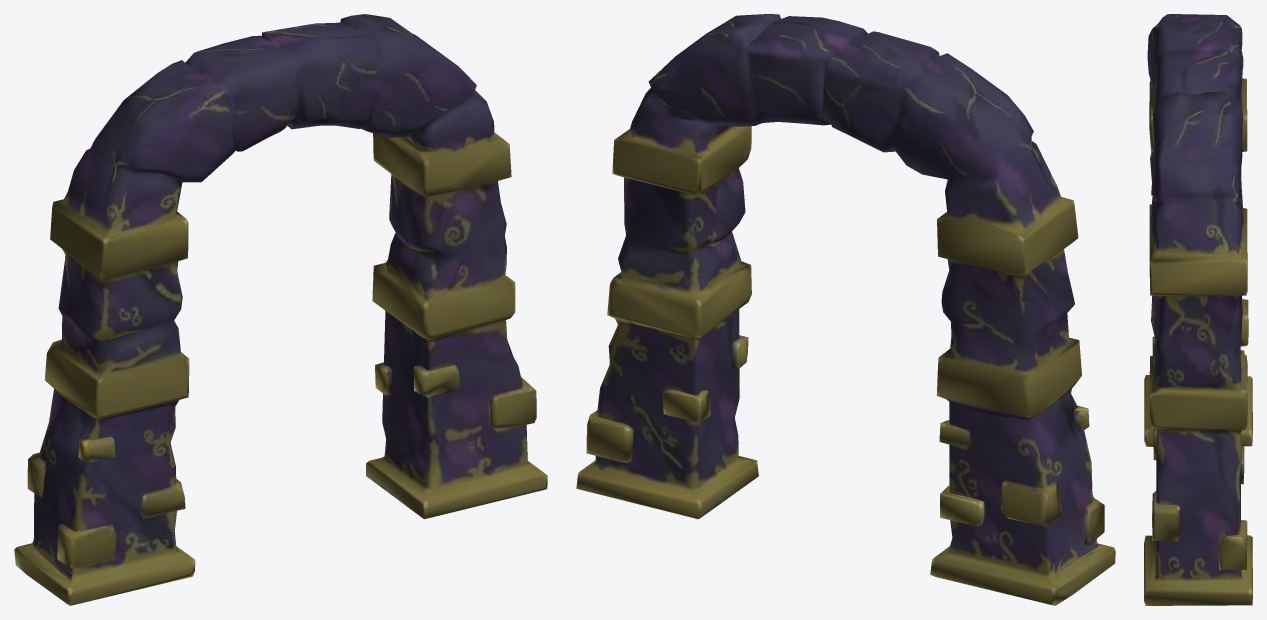
File: breakablelWallFrame_LowPolyCompressed.glb
3 renders of one model, left to right at view 1: azimuth 30°, elevation 25°; view 2: azimuth 150°, elevation 25°; view 3: azimuth 270°, elevation 25°, orthographic. The views are drawn at different scales.
Visible parts, largest first — view 1: Mesh_0.005; view 2: Mesh_0.005; view 3: Mesh_0.005.
Boxes of the visible parts, x1,y1,x2,y2 form: Mesh_0.005: (14, 14, 547, 605); Mesh_0.005: (576, 14, 1115, 605); Mesh_0.005: (1144, 14, 1252, 605).
Bounding box in the file's own units: 2.11 × 2.04 × 0.4468.
Materials: 1 (1 with a texture image).
